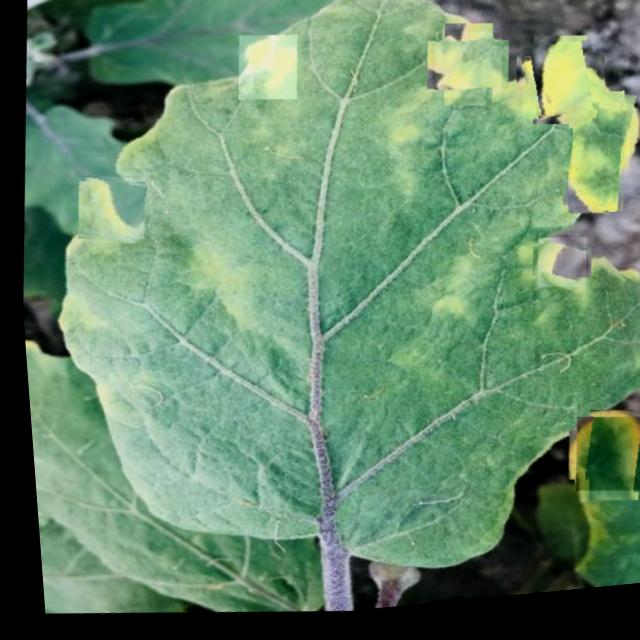leaf_spot: (556, 95, 635, 230), (514, 47, 601, 135), (563, 423, 640, 509), (70, 173, 146, 251), (428, 35, 504, 112), (232, 35, 299, 109), (529, 244, 584, 301)
